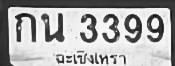3: (101, 13, 119, 42), (79, 13, 97, 42)
9: (123, 13, 141, 42), (146, 13, 163, 41)
A01: (14, 12, 35, 41)
A25: (40, 11, 64, 42)
CCO: (52, 48, 132, 66)
